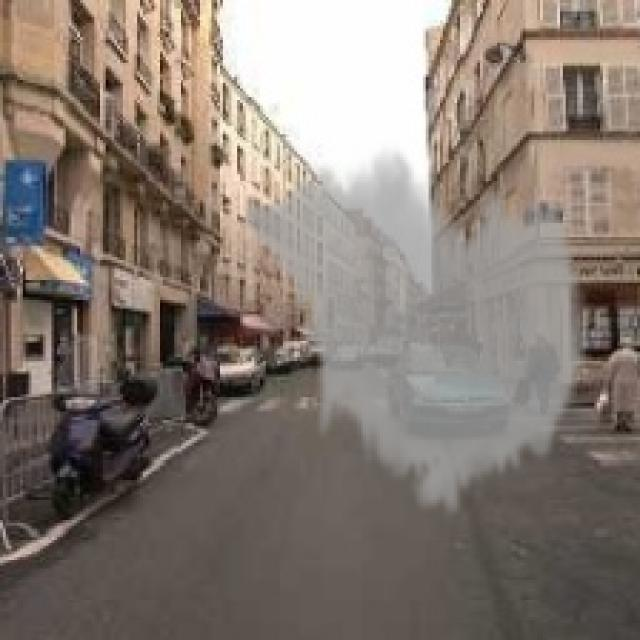Smoke: (239, 137, 592, 523)
